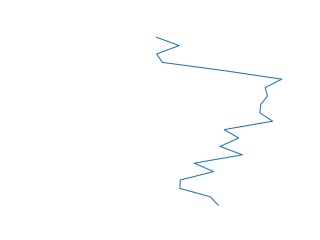floodPlain: (153, 34, 284, 208)
